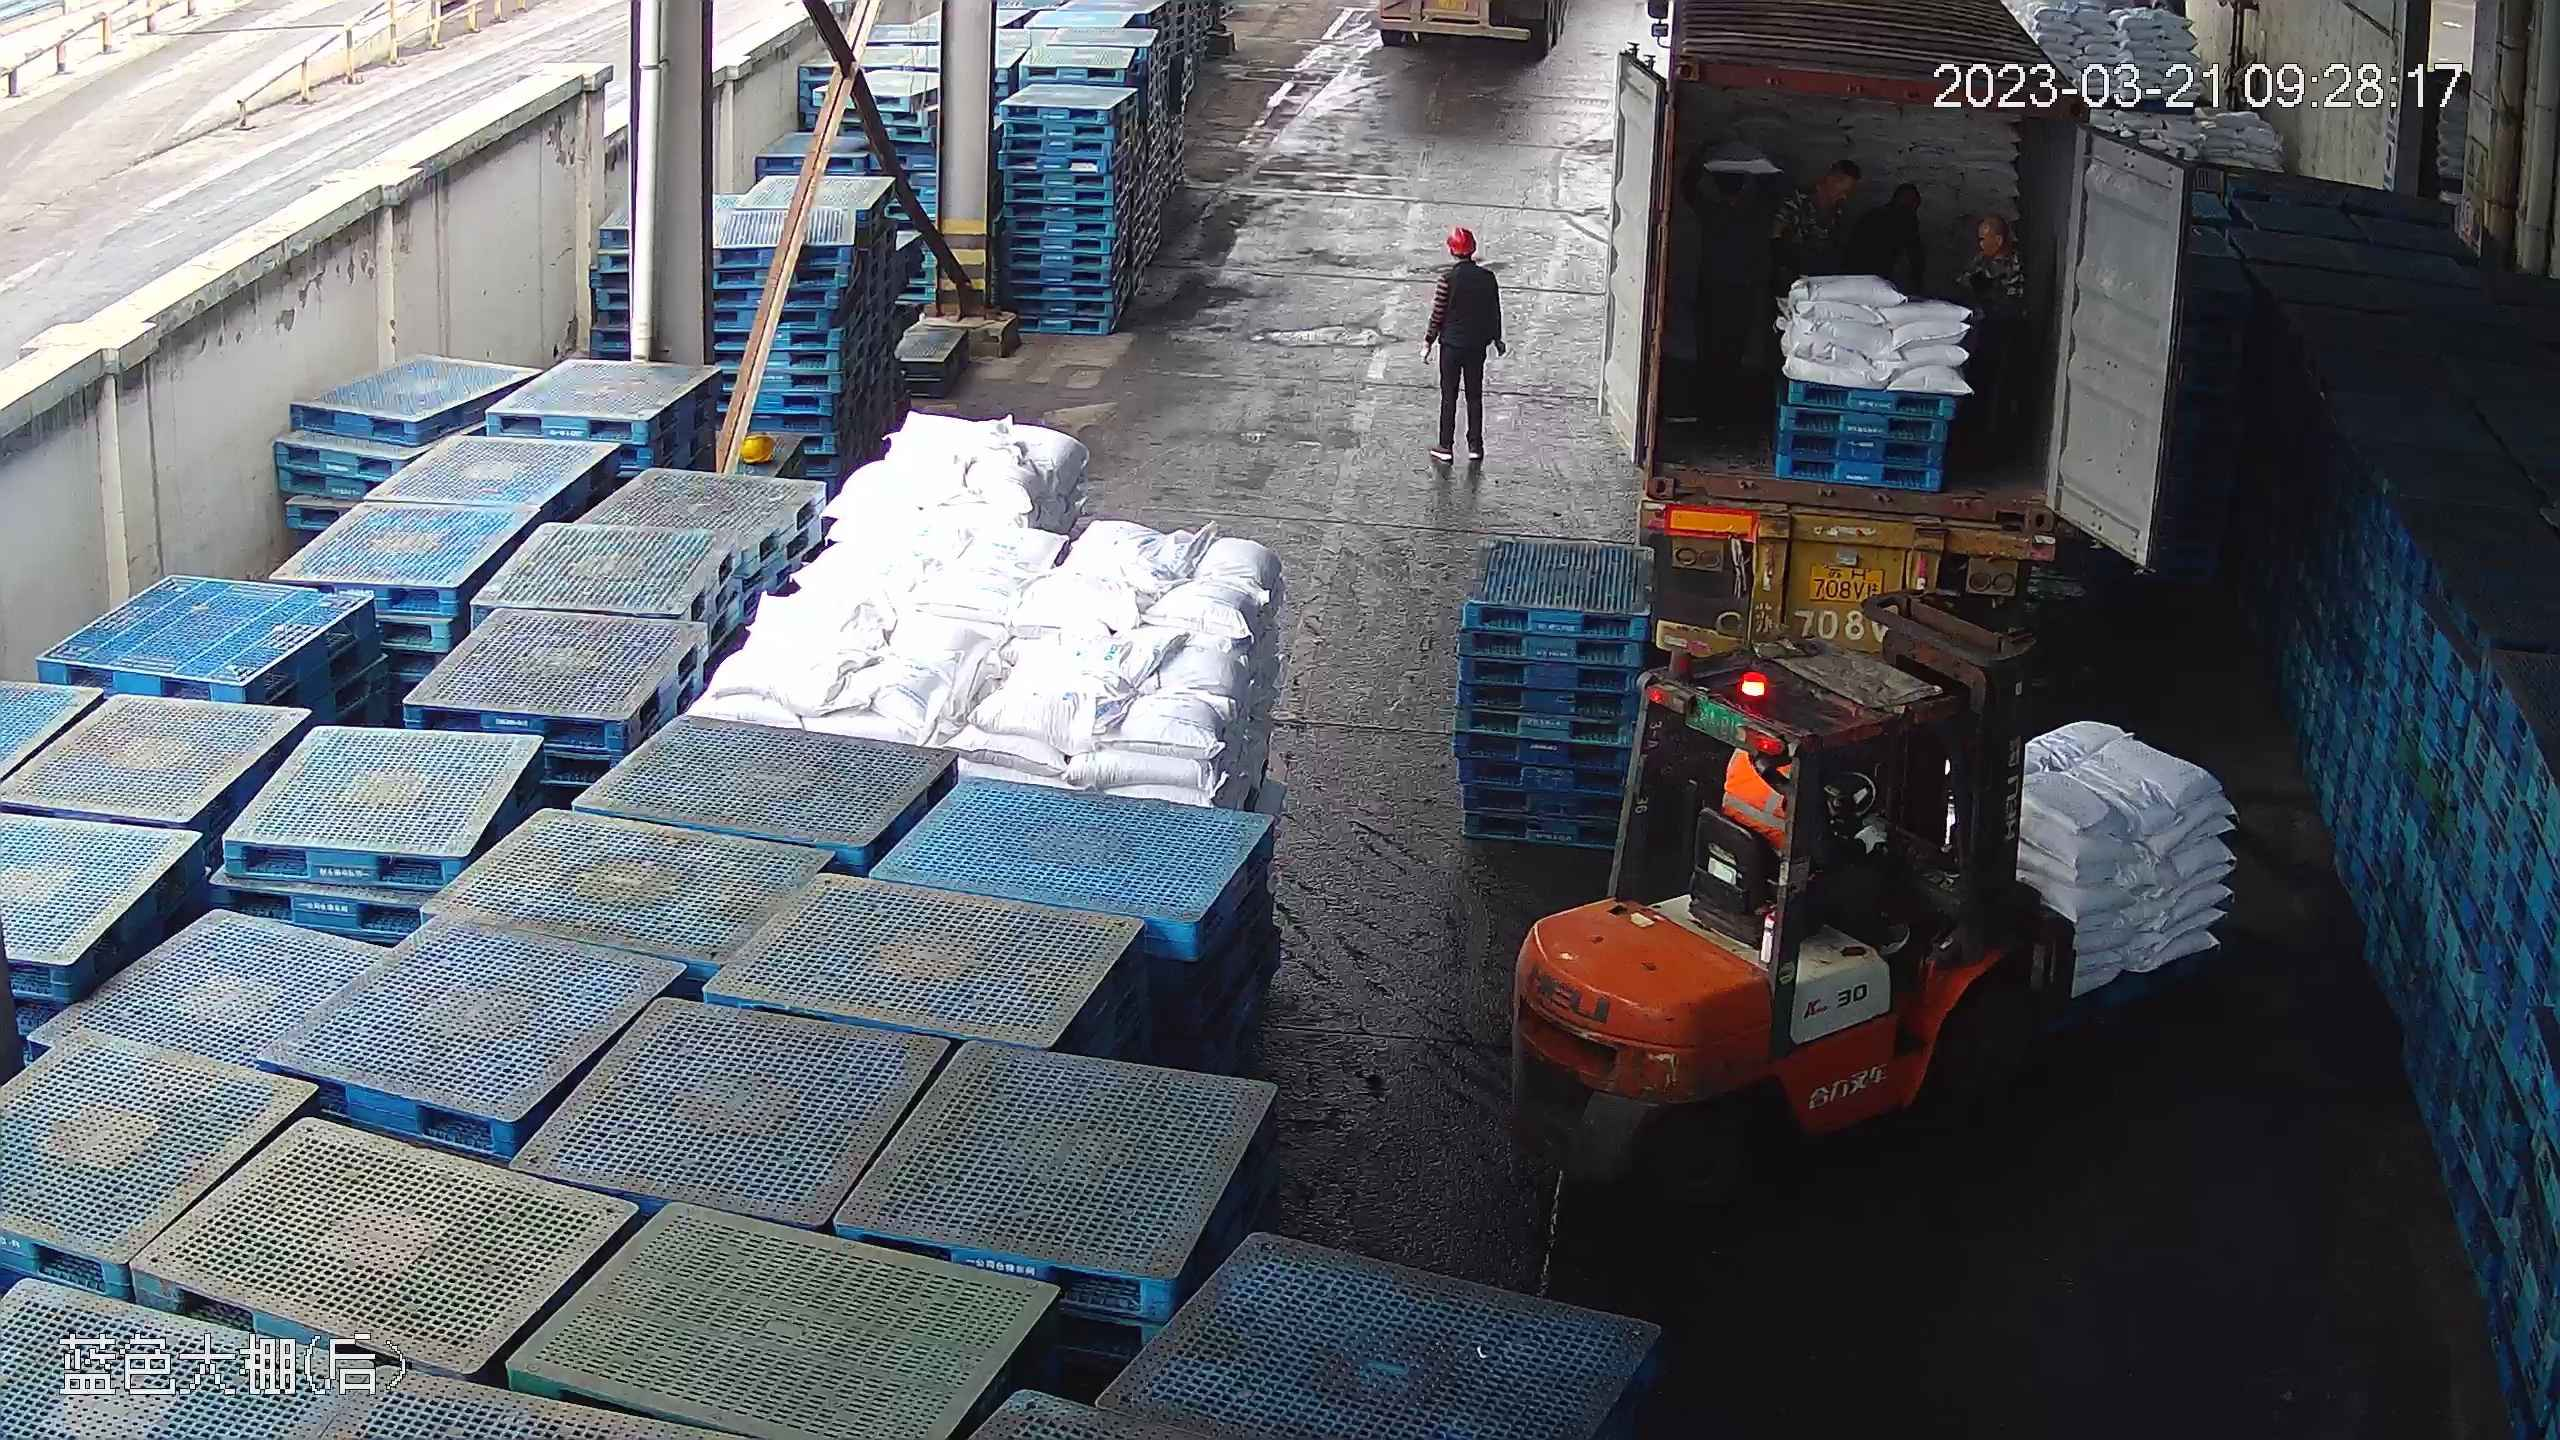head: (1775, 159, 1867, 246), (1967, 213, 2031, 299), (1435, 222, 1499, 296), (1860, 186, 1929, 253)
helmet: (734, 431, 779, 466), (1447, 223, 1478, 250)
people: (1424, 219, 1506, 471)
